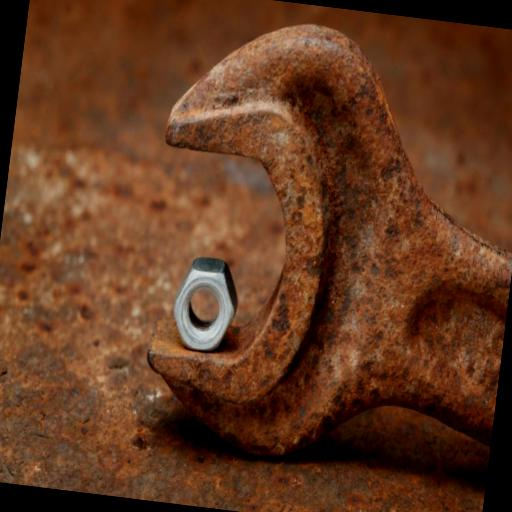corrosion: (0, 310, 488, 512)
